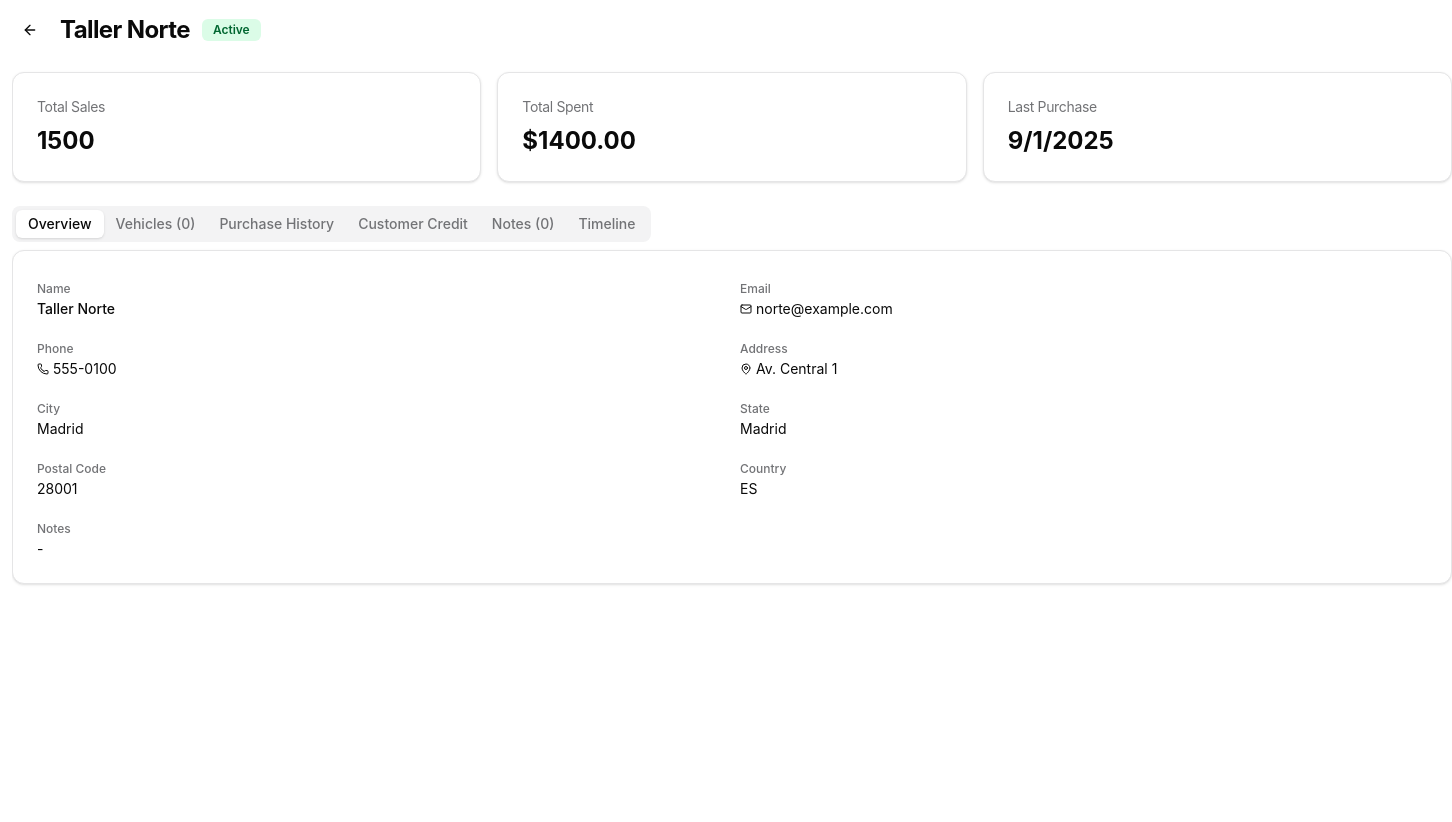
Test: CrmCustomerDetailPage › credit › shows the limit, the balance and what is left to spend
Click the tab "Customer Credit" at (413, 224), box 346,210 -> 480,238
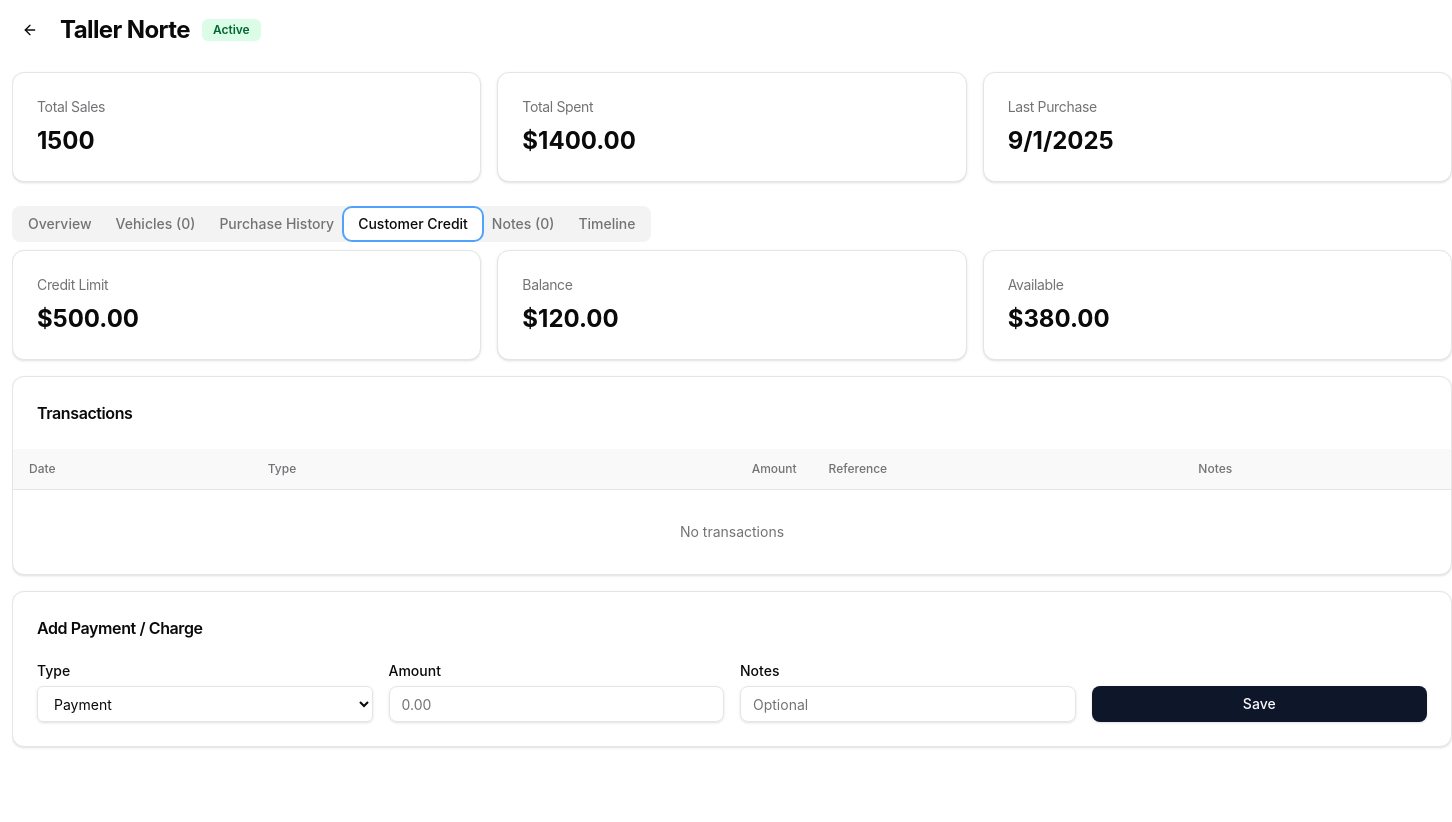
Expected: the panel is shown, 12,250 -> 1451,747
Expected: the text "$500.00" is shown, 37,304 -> 139,333
Expected: the text "$120.00" is shown, 522,304 -> 619,333
